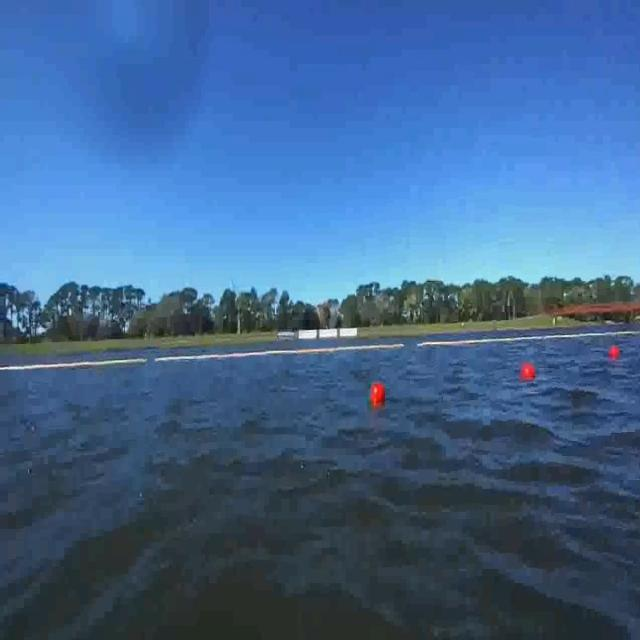red-buoy: (370, 381, 384, 404), (520, 362, 536, 380), (608, 346, 620, 360)
